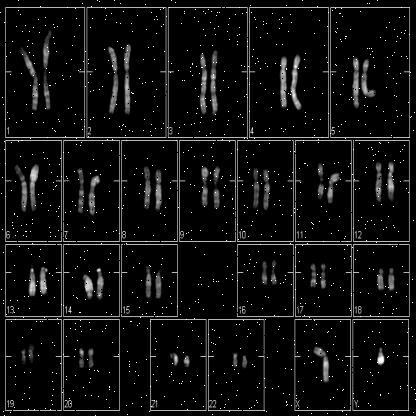1: (18, 39, 40, 114), (39, 28, 57, 115)
10: (250, 163, 261, 218), (260, 163, 271, 218)
11: (326, 156, 340, 204), (316, 157, 324, 206)
12: (384, 156, 395, 206), (374, 158, 384, 206)
13: (26, 260, 38, 300), (37, 260, 49, 299)
14: (82, 268, 96, 303), (95, 265, 107, 303)
15: (143, 262, 154, 300), (154, 262, 164, 300)
16: (269, 256, 279, 289), (260, 256, 270, 288)
17: (308, 258, 318, 294), (318, 258, 328, 294)
18: (376, 263, 386, 297), (386, 264, 396, 298)
19: (20, 342, 28, 370), (28, 342, 35, 370)
2: (106, 40, 119, 118), (119, 40, 132, 118)
20: (76, 341, 87, 372), (86, 342, 97, 372)
21: (166, 349, 182, 370), (180, 349, 196, 370)
22: (230, 347, 239, 372), (239, 347, 248, 372)
3: (198, 48, 208, 120), (208, 48, 218, 120)
4: (289, 48, 304, 112), (278, 49, 290, 112)
5: (360, 52, 376, 113), (350, 53, 361, 112)
6: (13, 162, 29, 214), (28, 162, 44, 214)
7: (86, 165, 100, 216), (76, 164, 87, 216)
8: (140, 161, 154, 212), (152, 161, 166, 212)
9: (198, 162, 209, 211), (211, 162, 222, 211)
X: (312, 340, 332, 386)
Y: (374, 341, 388, 370)
